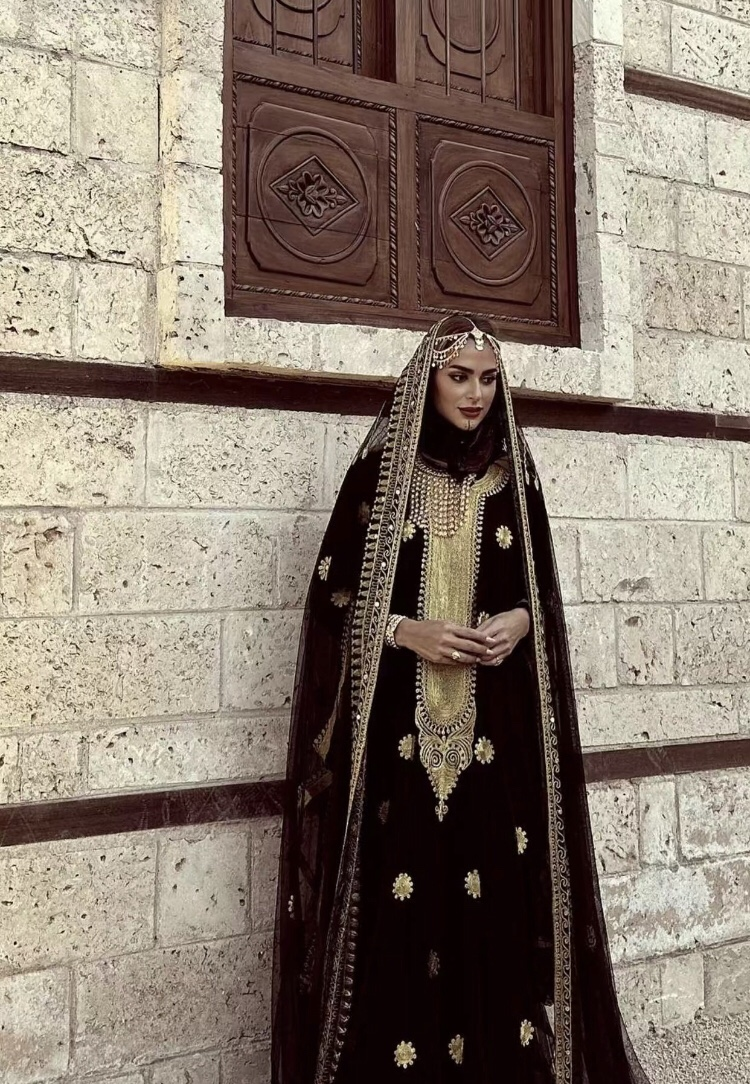Saudi_Founding_Day: (269, 307, 657, 1083)
